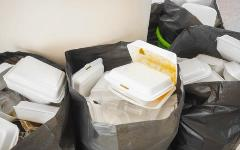general: (0, 55, 68, 105), (103, 62, 173, 103), (166, 1, 224, 30), (71, 57, 104, 97), (182, 53, 210, 85), (0, 113, 19, 149)
plastic: (185, 86, 239, 150)
